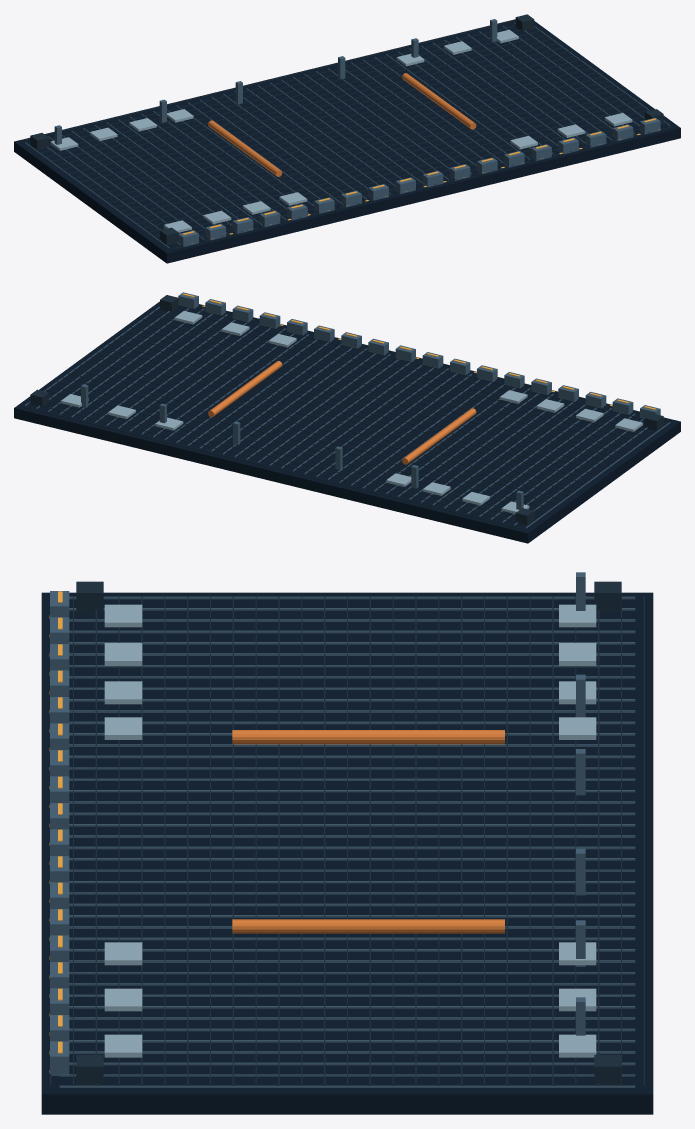
The model's file is 00_L76_IndustrialCopperInterconnectBase.fbx.
The picture shows the model from 3 angles, top to bottom: view 1: azimuth 30°, elevation 25°; view 2: azimuth 150°, elevation 25°; view 3: azimuth 270°, elevation 25°; orthographic projection. The views are drawn at different scales.
Parts seen in each view (by area): view 1: IndustrialCopperInterconnectBase; view 2: IndustrialCopperInterconnectBase; view 3: IndustrialCopperInterconnectBase.
Part boxes in pixels (x1,y1,x2,y2): IndustrialCopperInterconnectBase: (14, 14, 680, 263); IndustrialCopperInterconnectBase: (14, 292, 680, 543); IndustrialCopperInterconnectBase: (41, 572, 653, 1114).
Size of the model in its own units: 1960 by 116 by 1010.
